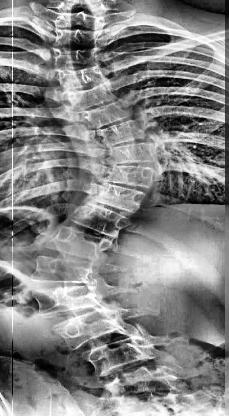Vertebrae: (99, 360, 177, 404), (50, 306, 126, 350), (82, 336, 158, 380), (44, 224, 110, 264), (31, 282, 106, 316), (68, 202, 132, 240), (31, 254, 96, 288), (82, 116, 148, 148), (67, 100, 131, 132), (90, 178, 146, 212), (58, 80, 116, 112), (53, 63, 107, 94), (100, 160, 164, 186), (102, 140, 156, 168), (51, 46, 101, 72), (52, 26, 100, 50)
